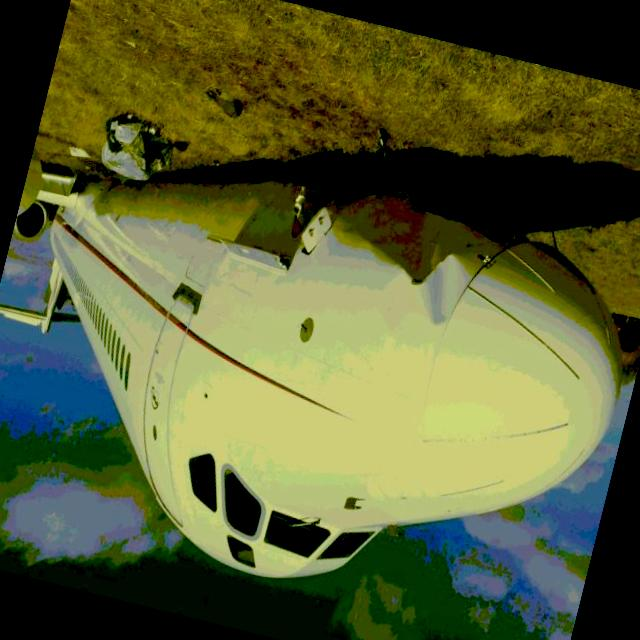dent: (410, 247, 474, 343)
